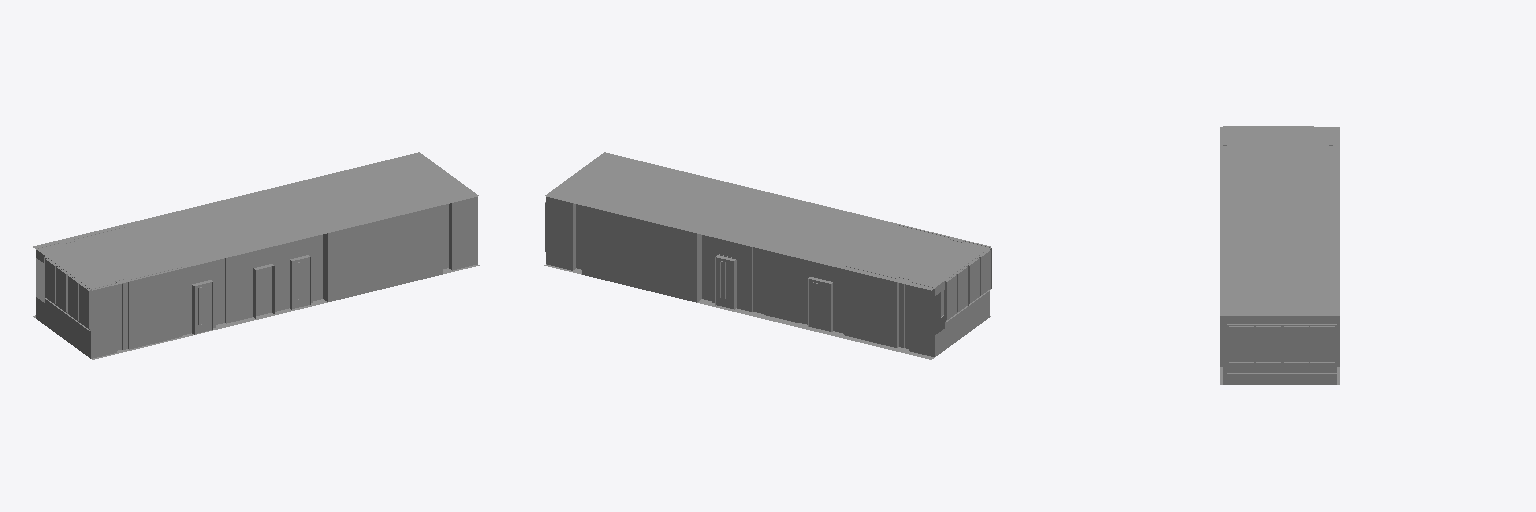
Rendered from livingroom2_layout.obj.
3 renders of one model, left to right at view 1: azimuth 30°, elevation 25°; view 2: azimuth 150°, elevation 25°; view 3: azimuth 270°, elevation 25°, orthographic.
Visible parts, largest first — view 1: ceiling.002, wall.012, wall.008, windows.001, door.006, door.003, door.002, wall.004; view 2: wall.012, ceiling.002, windows.001, door.005, door, floor; view 3: ceiling.002, windows, wall.012.
Part boxes in pixels (x1,y1,x2,y2): ceiling.002: (33,152,478,290); wall.012: (36,197,477,358); wall.008: (351,218,420,296); windows.001: (44,256,90,330); door.006: (291,256,309,309); door.003: (195,281,212,333); door.002: (256,266,272,316); wall.004: (183,206,438,272); wall.012: (546,197,989,356); ceiling.002: (545,152,990,290); windows.001: (945,248,991,321); door.005: (808,278,831,331); door: (716,256,734,309); floor: (544,264,841,336); ceiling.002: (1220,127,1339,315); windows: (1227,324,1336,373); wall.012: (1220,145,1339,384).
Bounding box in the file's own units: 16.71 × 2.85 × 4.46.